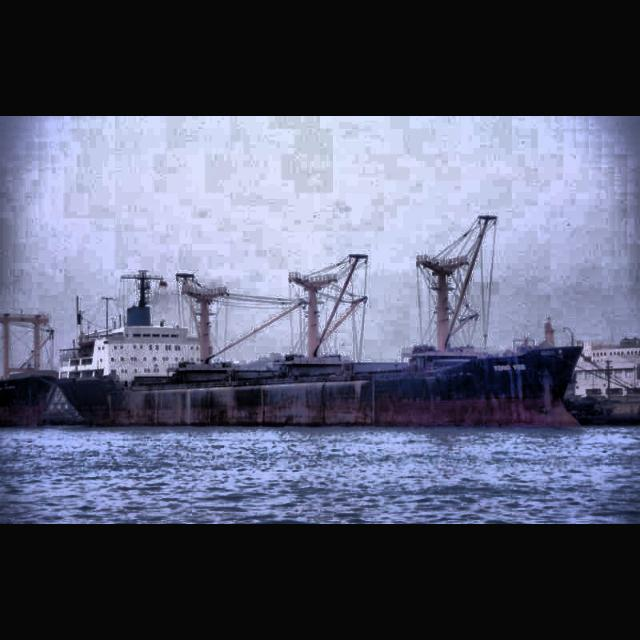bulk_carrier: (53, 214, 584, 431), (1, 310, 62, 428)
